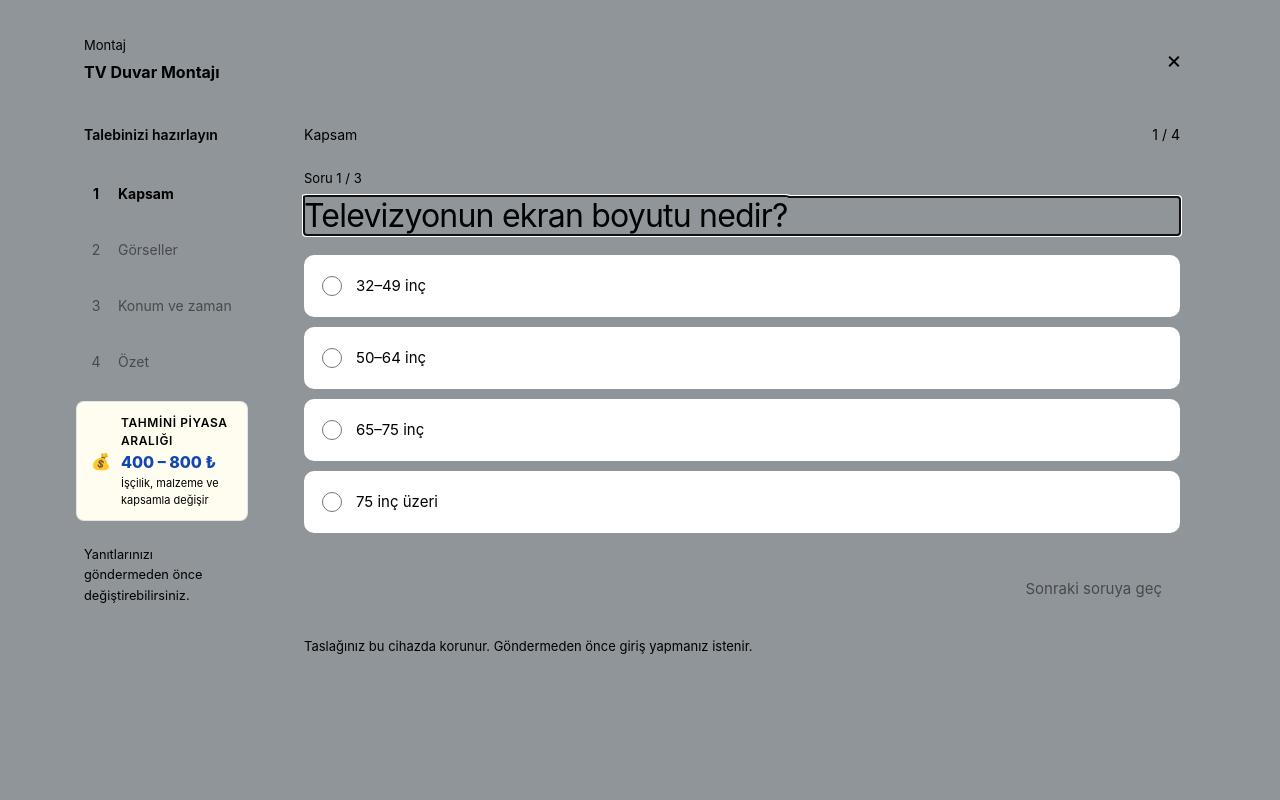
Test: RequestWizard › presents scope questions progressively and requires an answer before advancing
Expected: the button "Sonraki soruya geç" is disabled, x1=1007 y1=565 x2=1180 y2=613
Click the radio button labelled "32–49 inç": (332, 286) x1=322 y1=276 x2=342 y2=296
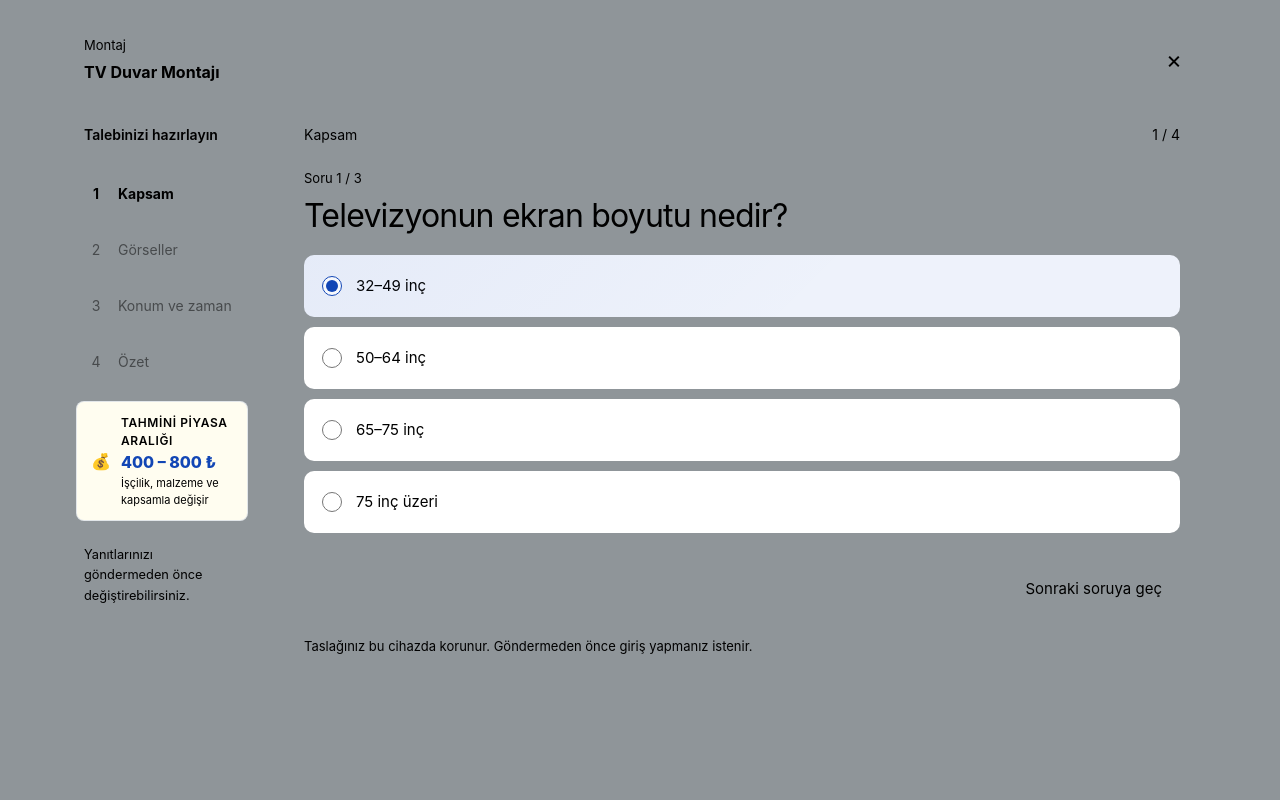
Expected: the button "Sonraki soruya geç" is enabled
Click the button "Sonraki soruya geç": (1094, 589) x1=1007 y1=565 x2=1180 y2=613
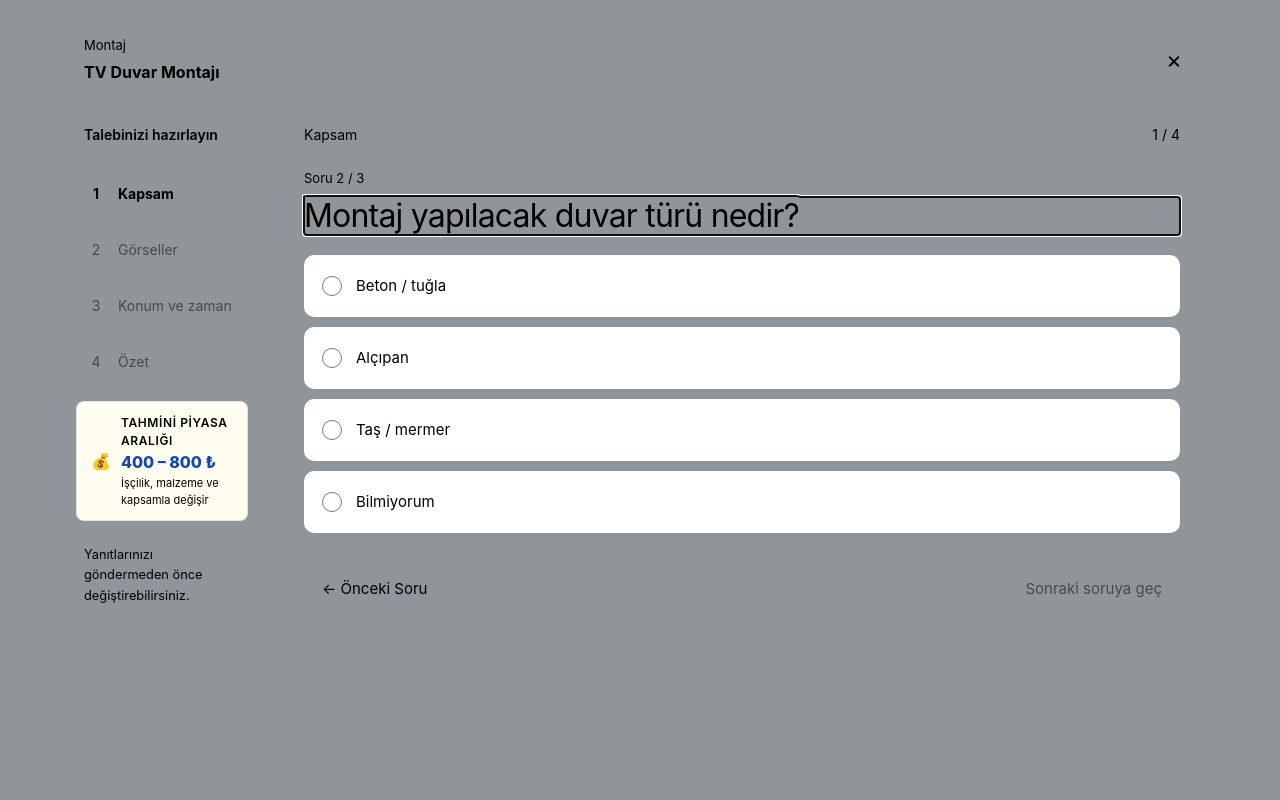
Expected: the text "Soru 2 / 3" is shown, x1=304 y1=170 x2=364 y2=186
Click the radio button labelled "Beton / tuğla": (332, 286) x1=322 y1=276 x2=342 y2=296
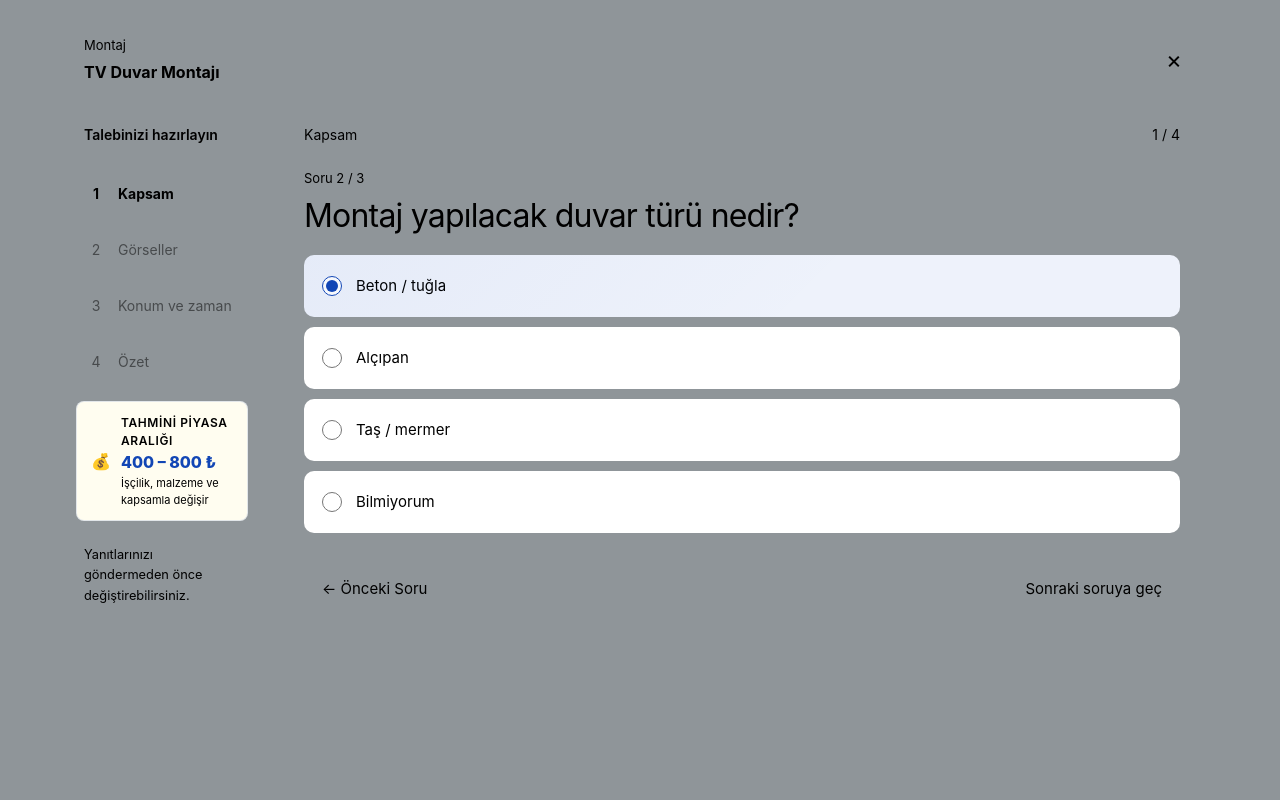
Click the button "Sonraki soruya geç": (1094, 589) x1=1007 y1=565 x2=1180 y2=613
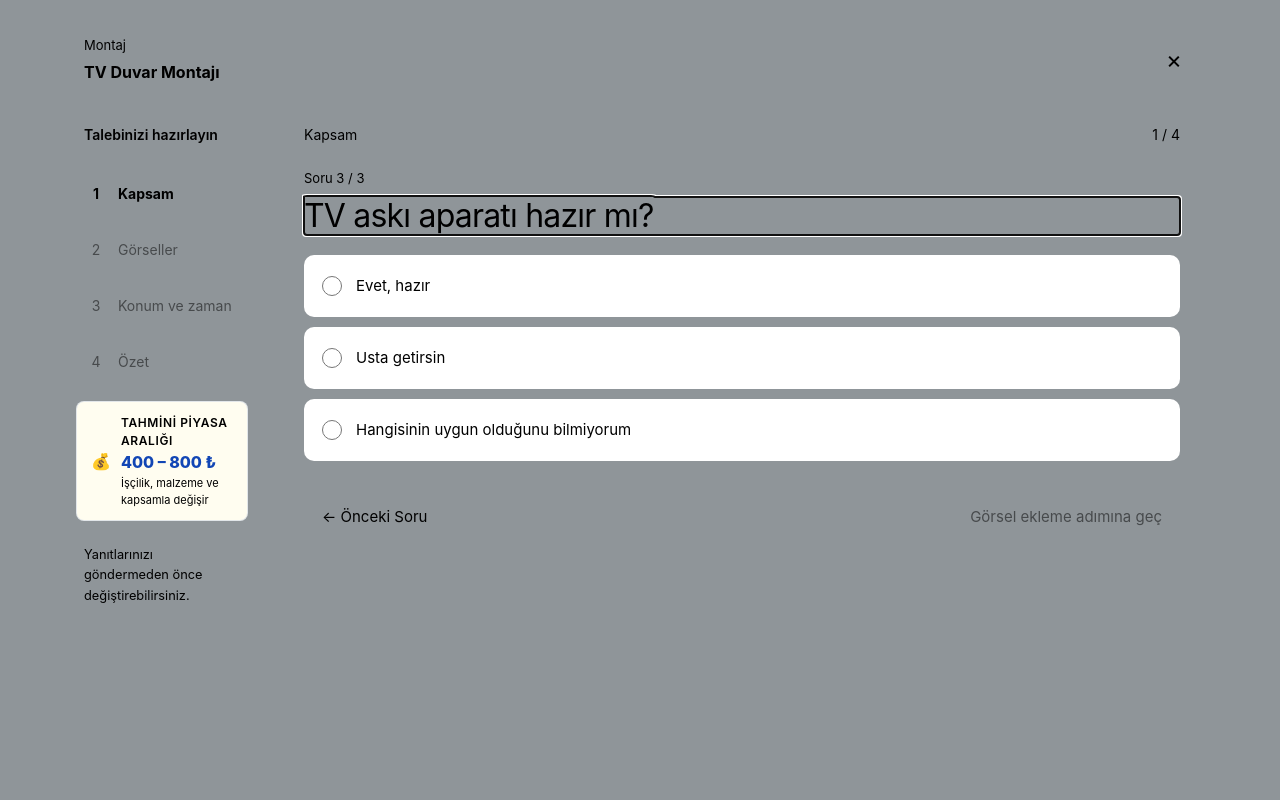
Click the radio button labelled "Evet, hazır": (332, 286) x1=322 y1=276 x2=342 y2=296
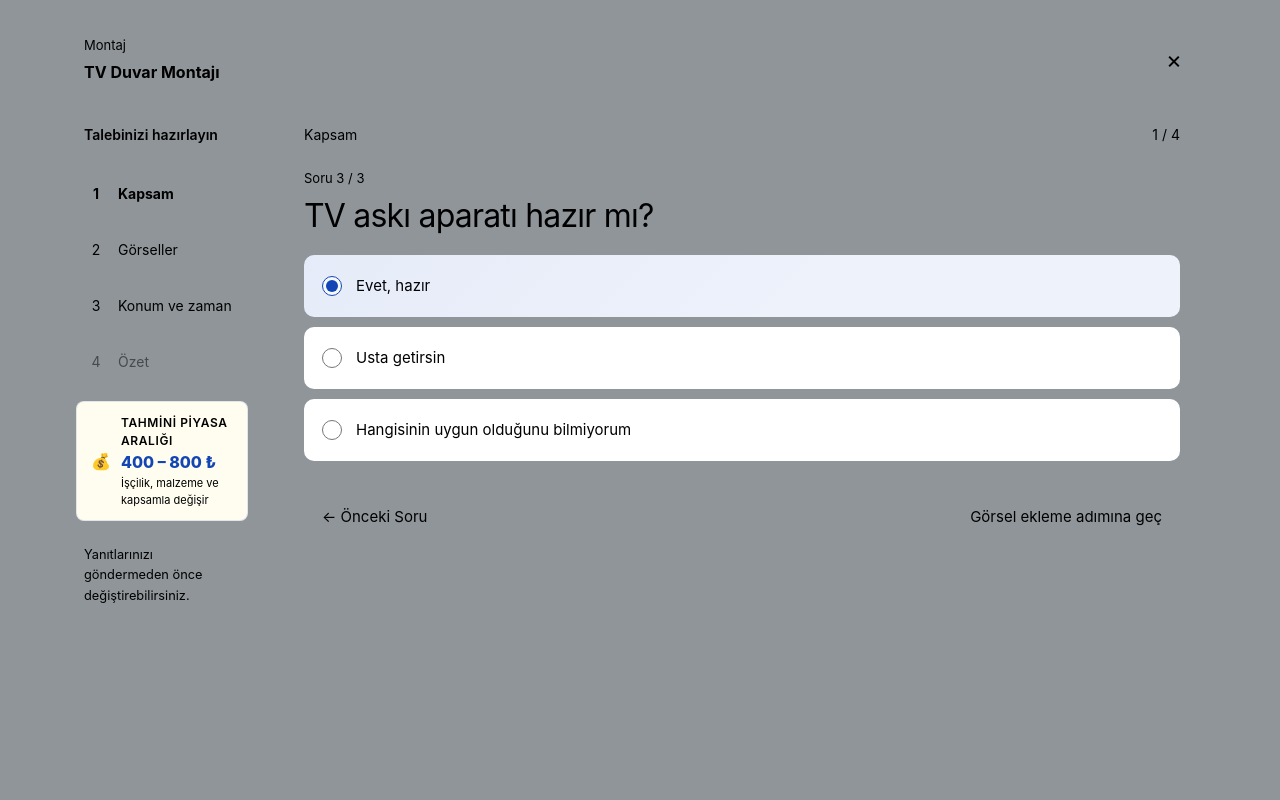
Expected: the button "Görsel ekleme adımına geç" is enabled, x1=952 y1=493 x2=1180 y2=541
